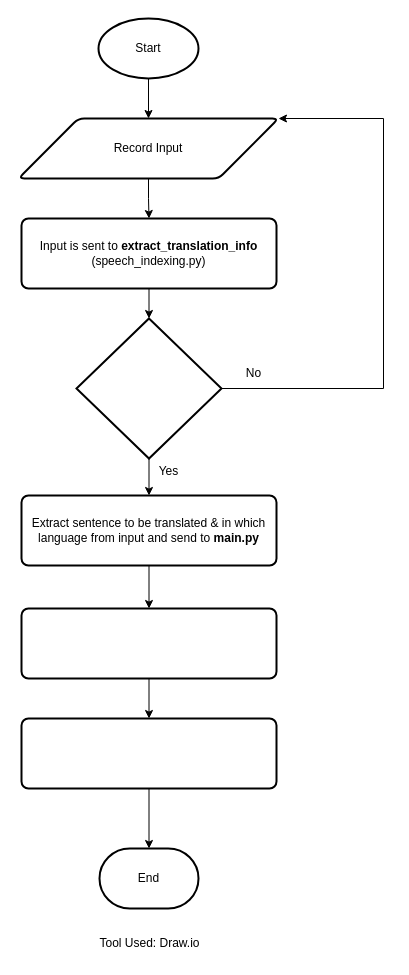
Some shapes in this 409 by 975 pixel diagram are drawn without their labels. The centre of each missing label's shape, as x and y in pixels:
"Does input contains Translate key word?" goes at point (148, 388).
"Send data to translate API to translate the sentence" goes at point (148, 643).
"Use text-to-speech" goes at point (148, 753).
